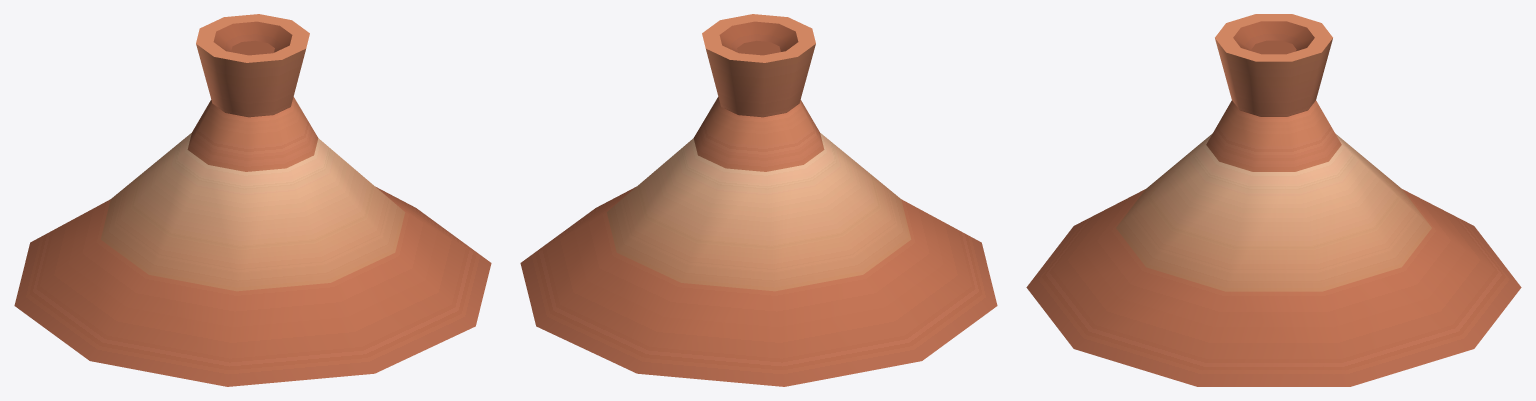
Rendered from tajine-lid.glb.
3 views of the same model, side by side, from view 1: azimuth 30°, elevation 25°; view 2: azimuth 150°, elevation 25°; view 3: azimuth 270°, elevation 25° (orthographic).
Visible parts, largest first — view 1: tajine-lid; view 2: tajine-lid; view 3: tajine-lid.
Part boxes in pixels (box(x1,y1,x2,y2)): tajine-lid: box(14, 14, 491, 386); tajine-lid: box(520, 14, 997, 386); tajine-lid: box(1026, 14, 1521, 386).
Bounding box in the file's own units: 0.7555 × 0.442 × 0.7943.
Materials: 1 (1 with a texture image).
